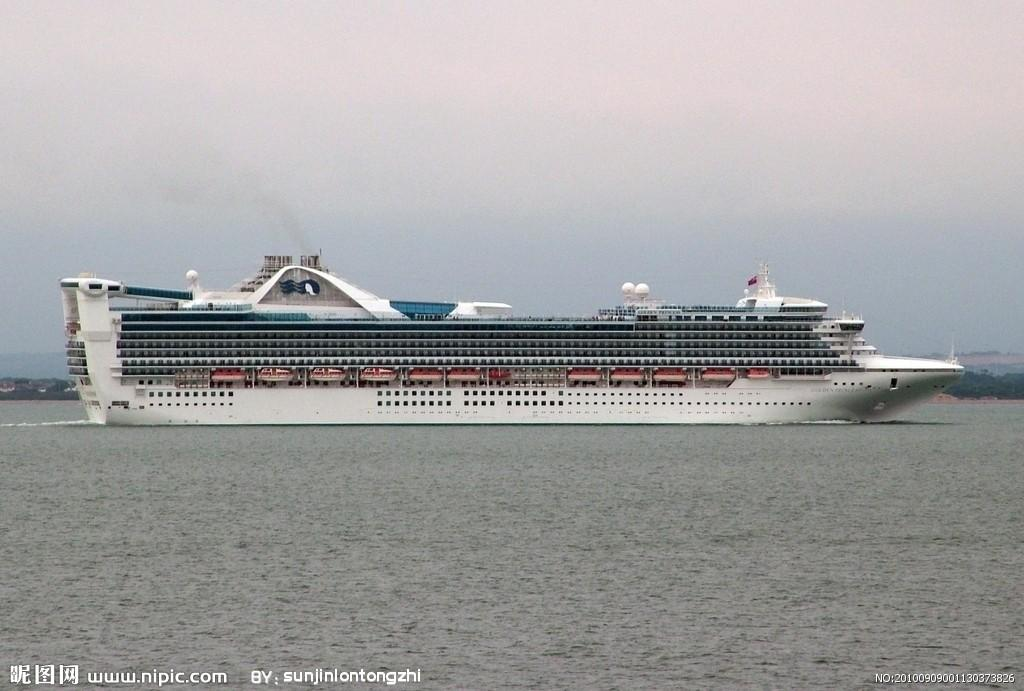youlun: (51, 235, 975, 429)
